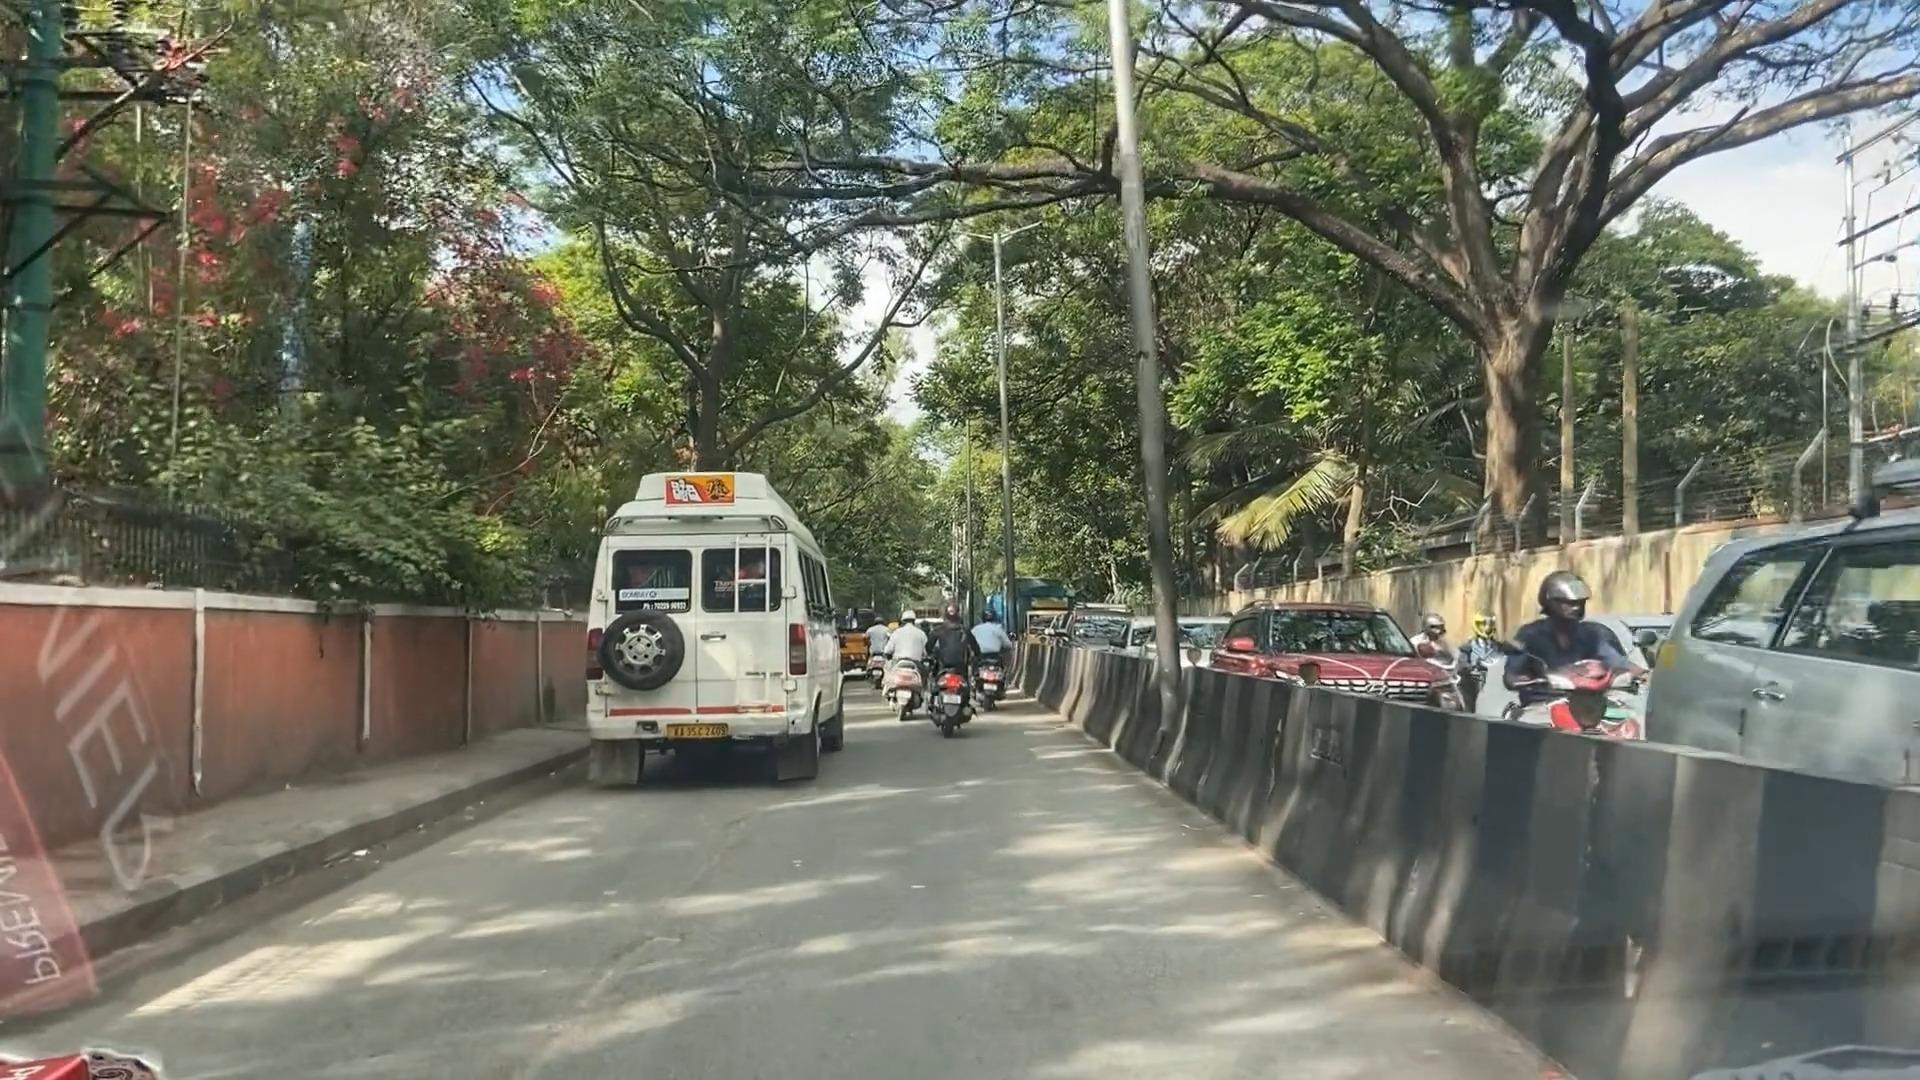HMV: (583, 469, 811, 773)
LMV: (920, 593, 975, 737)
